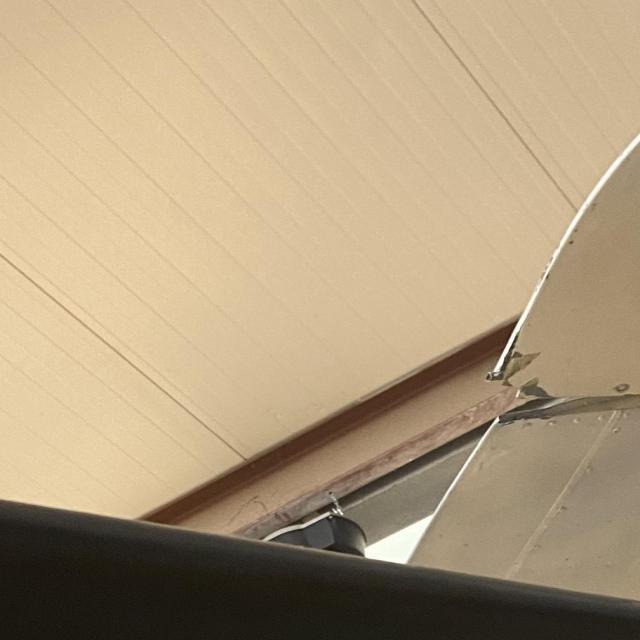Crack: (485, 344, 514, 383)
Missing-head: (615, 383, 631, 394)
Paint-off: (502, 349, 542, 377), (520, 377, 558, 404)
